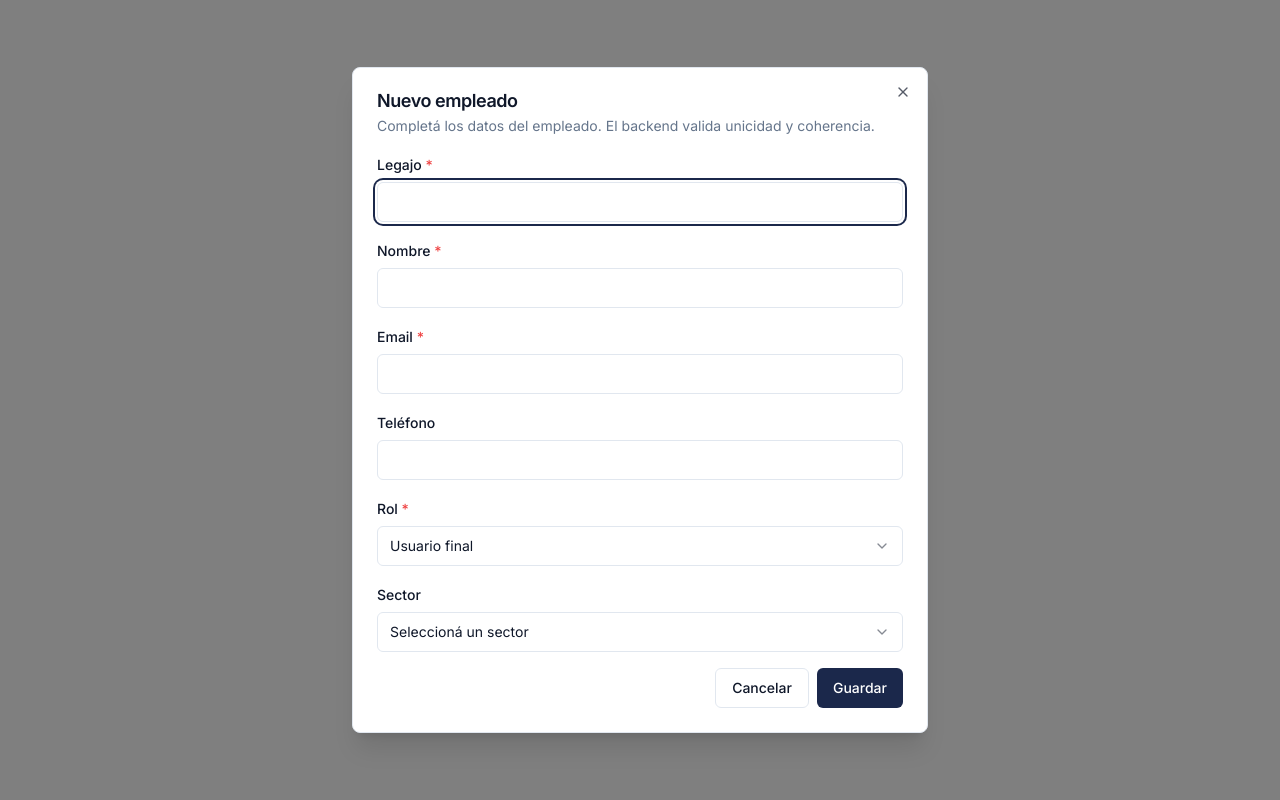
Scenario: EmpleadoFormDialog - validacion (FDIR-003) › bloquea el envio con legajo, nombre y email vacios y muestra los errores
Click the button "Guardar".
click(860, 688)  # box [817,668,903,708]
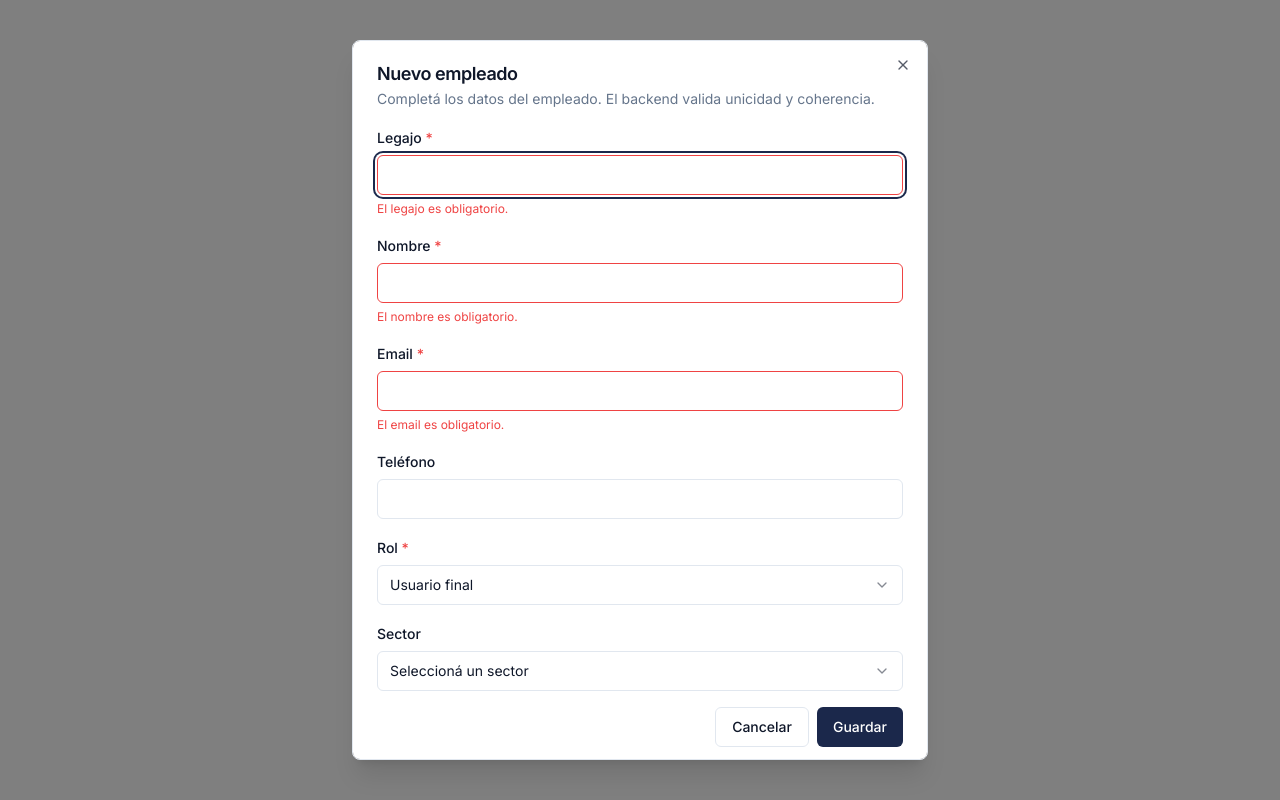
Now the text "El legajo es obligatorio." is shown, box [377,201,508,216]
Now the text "El nombre es obligatorio." is shown, box [377,309,518,324]
Now the text "El email es obligatorio." is shown, box [377,417,504,432]
